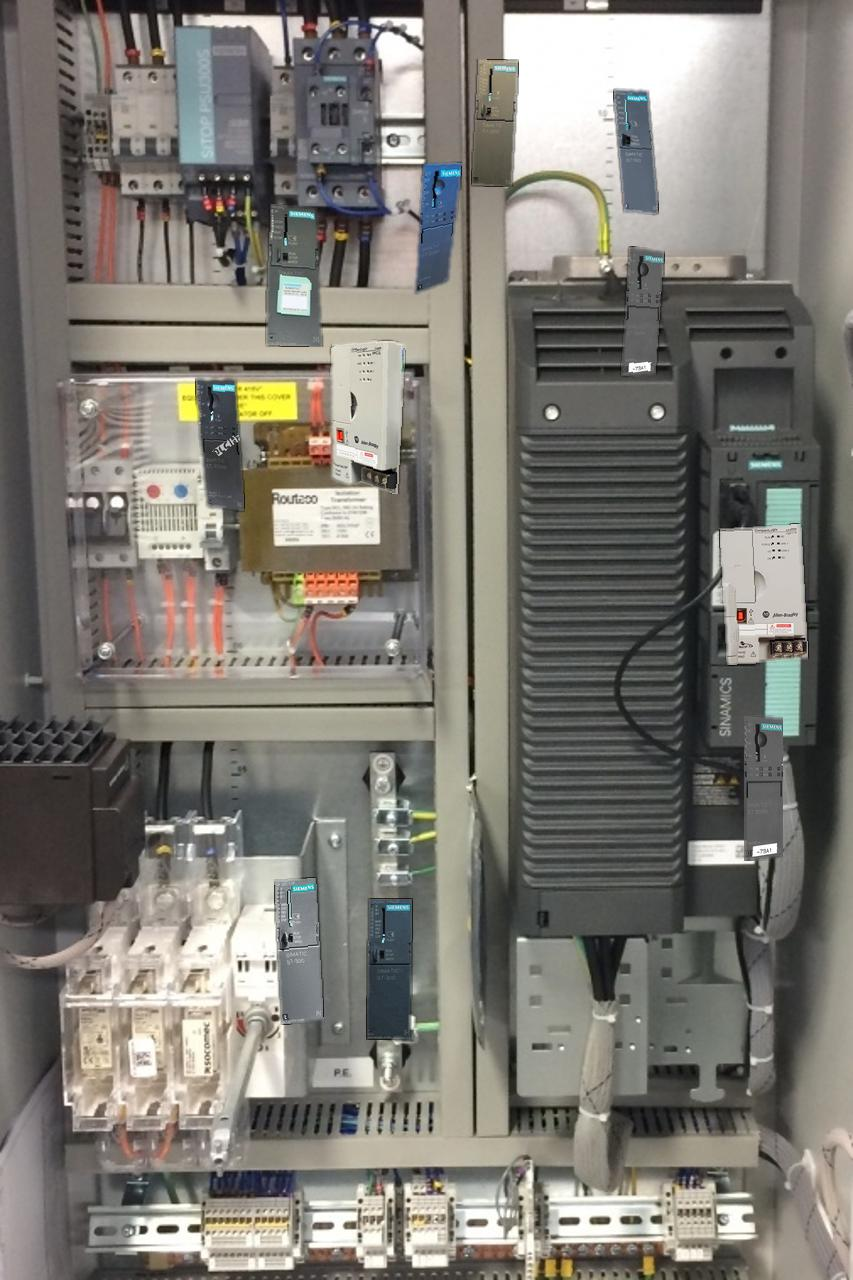AllenBradley: (720, 524, 807, 664), (331, 341, 404, 493)
Siemens: (267, 204, 321, 346), (274, 878, 323, 1023), (367, 899, 411, 1038), (472, 59, 517, 186), (614, 89, 657, 213)
